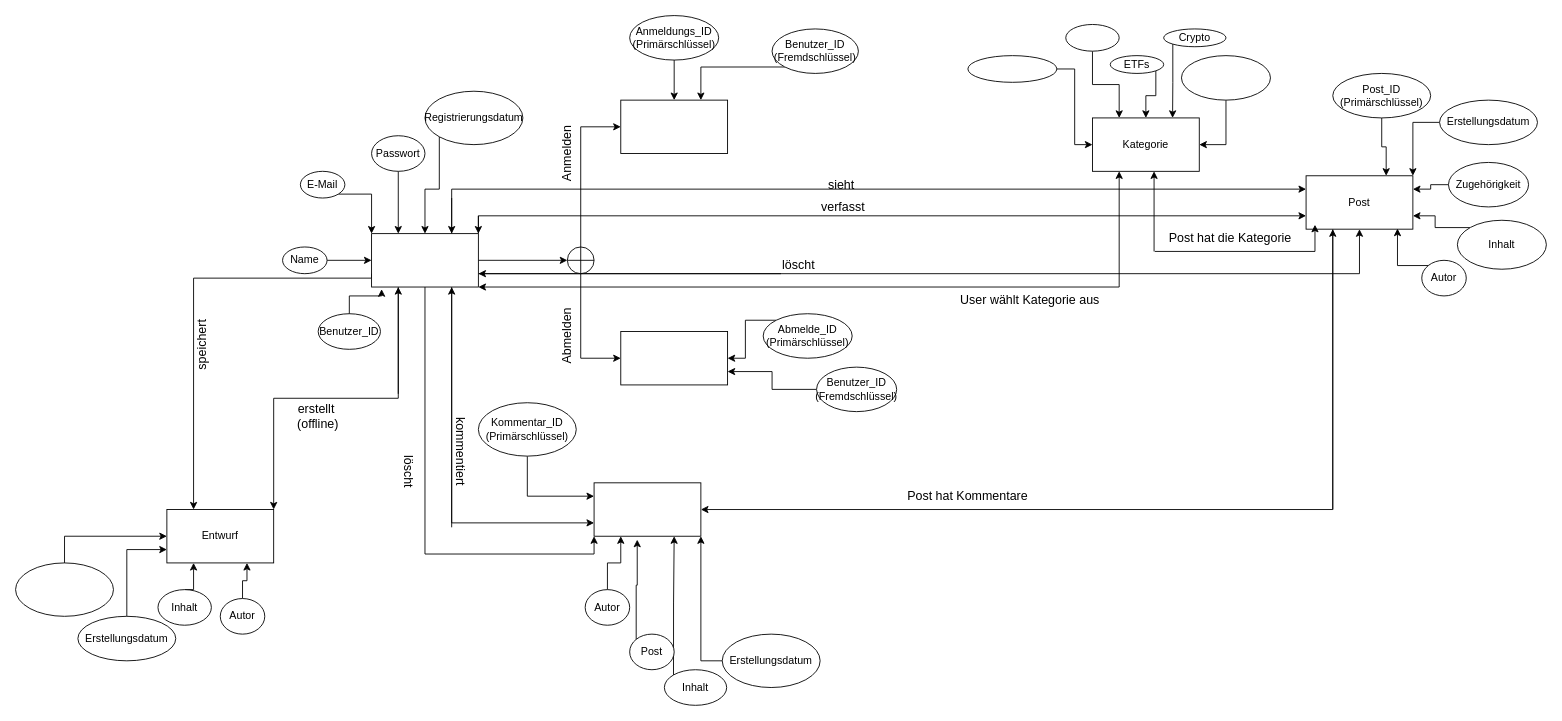
Some shapes in this 1562 by 721 pixel diagram are drawn without their labels. Here are the shapes that lost their labels. From the top down, the centre of each, then its label:
(1092,37): Aktien
(1012,68): Immobilien
(1225,77): Kategorie_ID (Primärschlüssel)
(674,126): Anmeldung
(424,260): User
(674,358): Abmeldung
(647,509): Kommentare
(64,589): Entwurf_ID (Primärschlüssel)
